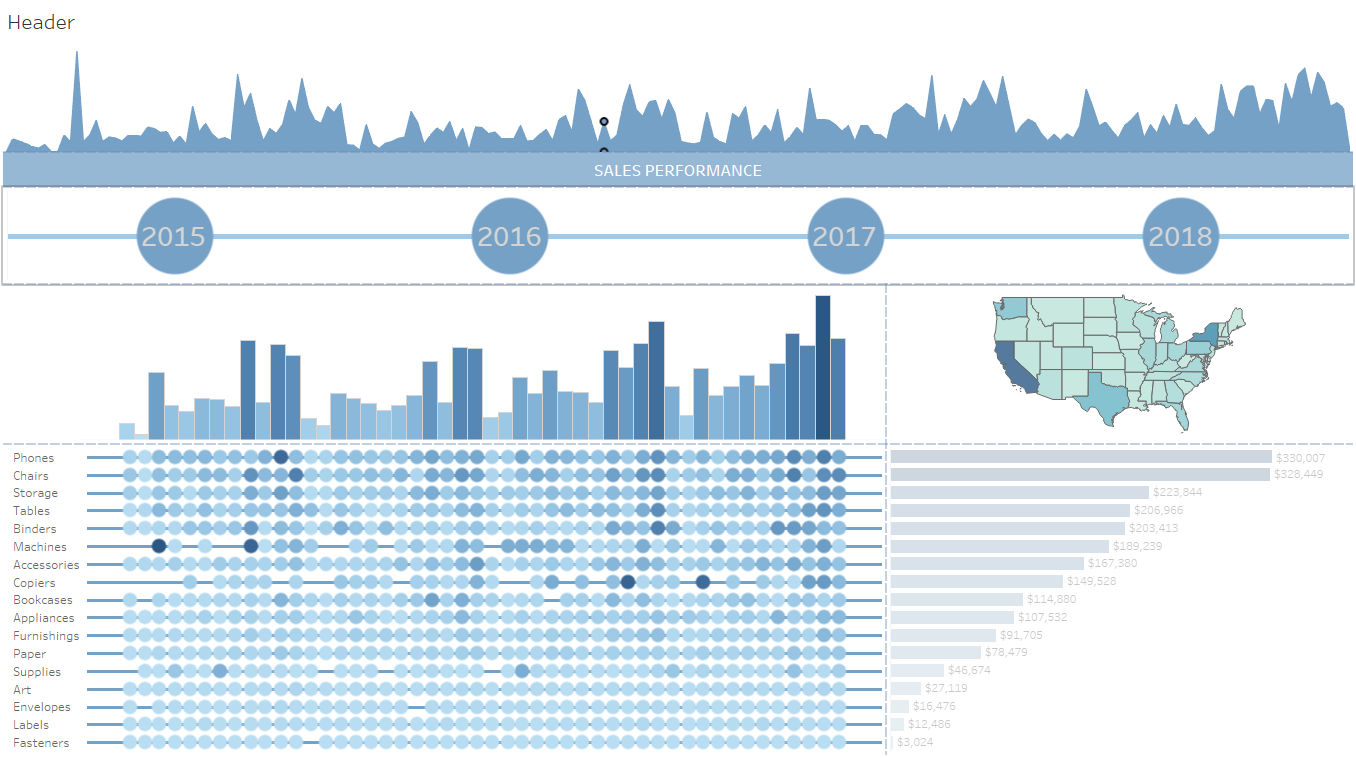

What the dashboard file says about the page in this screenshot:
{"tool":"tableau","page":{"name":"Dashboard 1","canvas":[1366,768],"ordinal":0},"visuals":[{"type":"worksheet","title":"Header","mark":"Area","rows":["Sales"],"cols":["Order Date"],"box":[8,8,1350,148.7]},{"type":"text","box":[8,156.7,1350,35.3]},{"type":"worksheet","title":"year filter","mark":"Circle","rows":["Calculation_1802565809941037057"],"cols":["Order Date"],"box":[8,192,1350,97]},{"type":"worksheet","title":"Sheet 17","mark":"Bar","rows":["Sales"],"cols":["Order Date"],"box":[8,289,883,160]},{"type":"worksheet","title":"Mao","mark":"Automatic","box":[891,289,467,160]},{"type":"worksheet","title":"blah","mark":"Circle","rows":["Sub-Category","Calculation_1802565809952407561"],"cols":["Order Date"],"box":[8,449,883,311]},{"type":"worksheet","title":"bottom right","mark":"Automatic","rows":["Sub-Category"],"cols":["Sales"],"box":[891,449,467,311]}]}

Visuals, with their boxes in screenshot pixels (x1, y1, x2, y2), scaled from the page's 1366x768 canvas onto the 1356x758 screenshot:
"Header" worksheet (Area marks): bbox=(8, 8, 1348, 155)
text: bbox=(8, 155, 1348, 190)
"year filter" worksheet (Circle marks): bbox=(8, 190, 1348, 285)
"Sheet 17" worksheet (Bar marks): bbox=(8, 285, 884, 443)
"Mao" worksheet: bbox=(884, 285, 1348, 443)
"blah" worksheet (Circle marks): bbox=(8, 443, 884, 750)
"bottom right" worksheet: bbox=(884, 443, 1348, 750)
